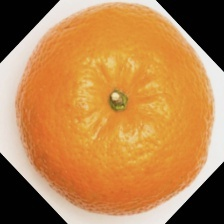orange: (31, 48, 207, 211)
